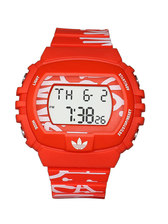watch: (11, 22, 151, 204)
